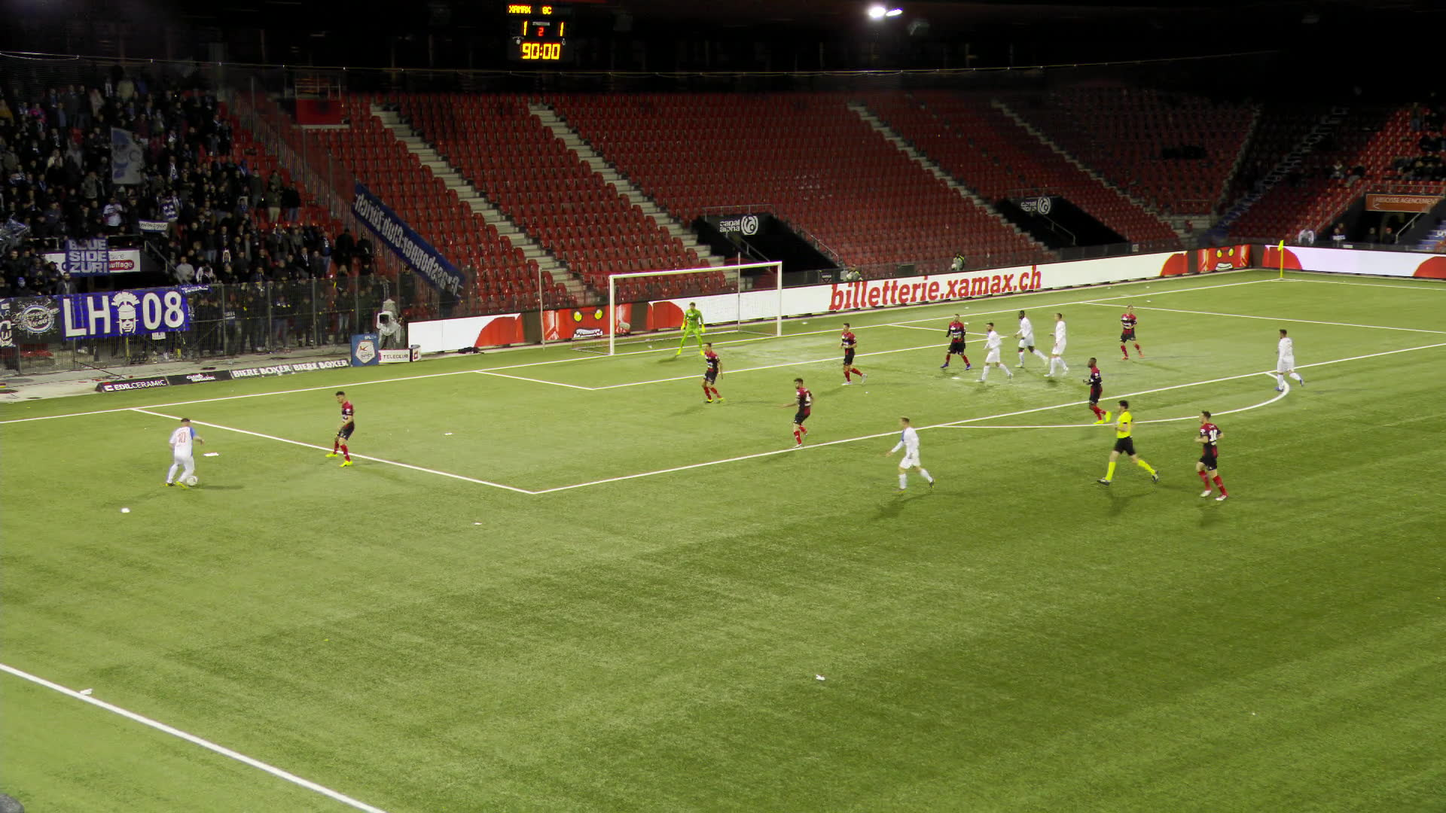ball: (187, 476, 198, 484)
player: (1192, 411, 1229, 499), (886, 418, 929, 492), (163, 416, 205, 490), (783, 377, 819, 443), (1081, 355, 1114, 423), (693, 341, 729, 402), (1270, 327, 1300, 393), (332, 391, 358, 466), (836, 320, 866, 385), (1114, 303, 1147, 359), (1012, 309, 1043, 367), (981, 322, 1008, 383), (944, 311, 969, 369), (677, 301, 704, 354), (1046, 312, 1066, 377)
referee: (1109, 400, 1152, 487)
